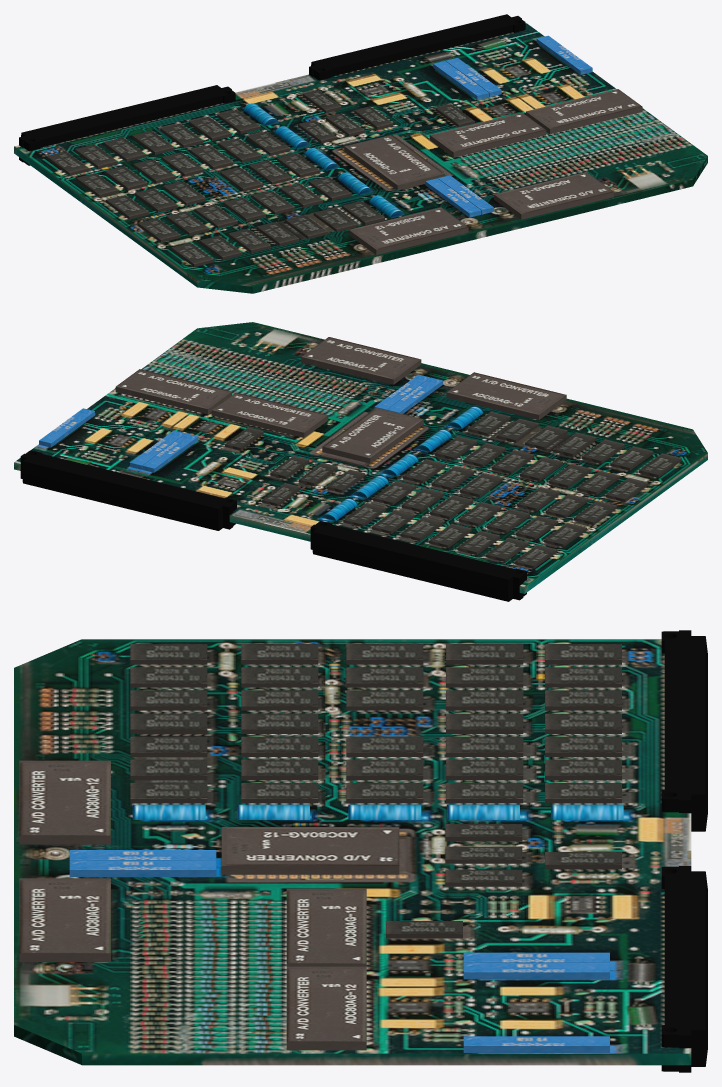
3 renders of one model, top to bottom at view 1: azimuth 30°, elevation 25°; view 2: azimuth 150°, elevation 25°; view 3: azimuth 270°, elevation 25°, orthographic. The views are drawn at different scales.
Parts seen in each view (by area): view 1: Chip; view 2: Chip; view 3: Chip.
Part boxes in pixels (x1=…): Chip: x1=14, y1=14, x2=707, y2=293; Chip: x1=14, y1=322, x2=707, y2=601; Chip: x1=14, y1=630, x2=707, y2=1072.
Bounding box in the file's own units: 14.44 × 0.5997 × 10.22.
Materials: 1 (1 with a texture image).
